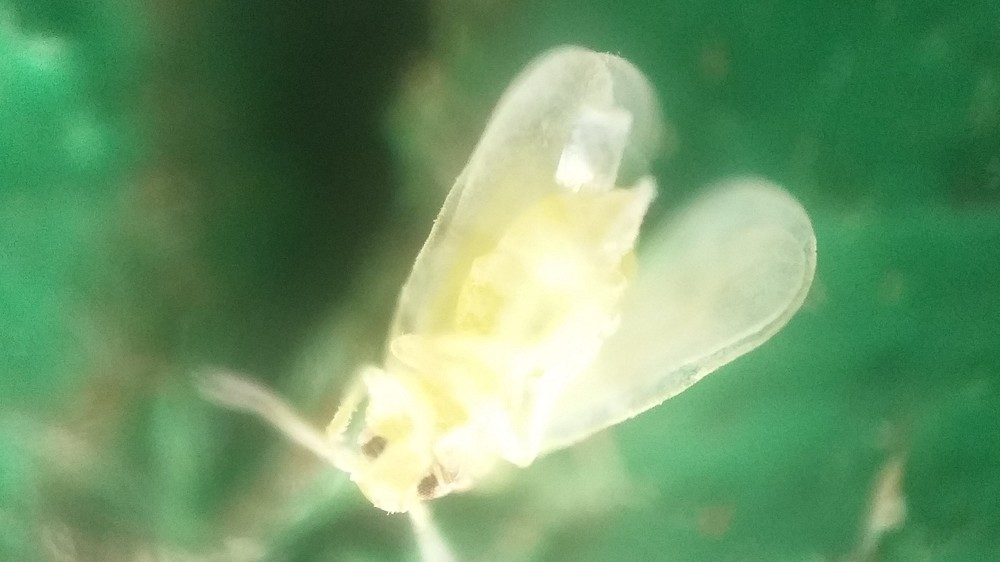Mosca Blanca: (184, 37, 825, 562)
